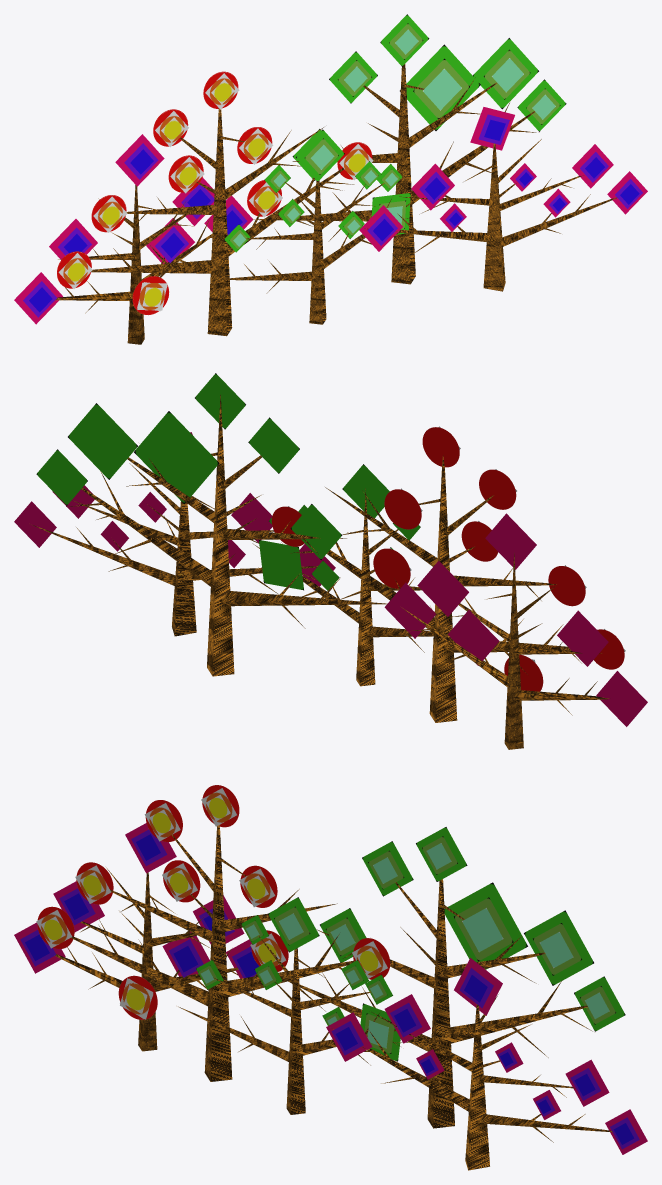
Rendered from Trees_Leaves_New_2.obj.
3 renders of one model, top to bottom at view 1: azimuth 30°, elevation 25°; view 2: azimuth 150°, elevation 25°; view 3: azimuth 330°, elevation 25°, orthographic. The views are drawn at different scales.
Parts seen in each view (by area): view 1: polySurface2, polySurface3, polySurface4, polySurface1, pPlane106, pPlane112, pPyramid24, pPlane105, pPlane104, pPlane55, pPlane52, pPlane49 (+14 smaller); view 2: polySurface3, polySurface2, polySurface4, pPlane106, polySurface1, pPlane112, pPyramid24, pPlane148, pPlane109, pPlane58, pPlane158, pPlane52 (+21 smaller); view 3: polySurface2, polySurface3, polySurface4, polySurface1, pPlane106, pPlane112, pPyramid24, pPlane105, pPlane104, pPlane49, pPlane55, pPlane58 (+13 smaller).
Boxes of the visible parts, <box> form: polySurface2: <box>91,108,354,336</box>; polySurface3: <box>252,64,539,284</box>; polySurface4: <box>364,139,616,291</box>; polySurface1: <box>211,180,416,324</box>; pPlane106: <box>400,44,480,130</box>; pPlane112: <box>472,38,538,109</box>; pPyramid24: <box>127,185,144,344</box>; pPlane105: <box>413,58,469,119</box>; pPlane104: <box>423,68,461,110</box>; pPlane55: <box>380,14,429,66</box>; pPlane52: <box>115,134,164,186</box>; pPlane49: <box>296,129,344,181</box>; polySurface3: <box>66,394,386,676</box>; polySurface2: <box>290,455,571,722</box>; polySurface4: <box>30,463,317,636</box>; pPlane106: <box>134,411,219,504</box>; polySurface1: <box>252,488,433,686</box>; pPlane112: <box>68,403,137,479</box>; pPyramid24: <box>504,553,523,749</box>; pPlane148: <box>259,540,303,590</box>; pPlane109: <box>36,449,87,505</box>; pPlane58: <box>248,417,299,473</box>; pPlane158: <box>417,561,468,616</box>; pPlane52: <box>485,513,536,569</box>; polySurface2: <box>71,825,355,1081</box>; polySurface3: <box>288,879,592,1128</box>; polySurface4: <box>331,1004,612,1170</box>; polySurface1: <box>178,935,400,1114</box>; pPlane106: <box>444,882,527,969</box>; pPlane112: <box>524,910,593,985</box>; pPyramid24: <box>138,872,157,1051</box>; pPlane105: <box>454,897,513,961</box>; pPlane104: <box>462,908,503,952</box>; pPlane49: <box>268,897,319,952</box>; pPlane55: <box>416,827,467,881</box>; pPlane58: <box>362,841,413,896</box>.
Bounding box in the file's own units: 508 × 215 × 67.47.
Materials: 10 (10 with a texture image).
